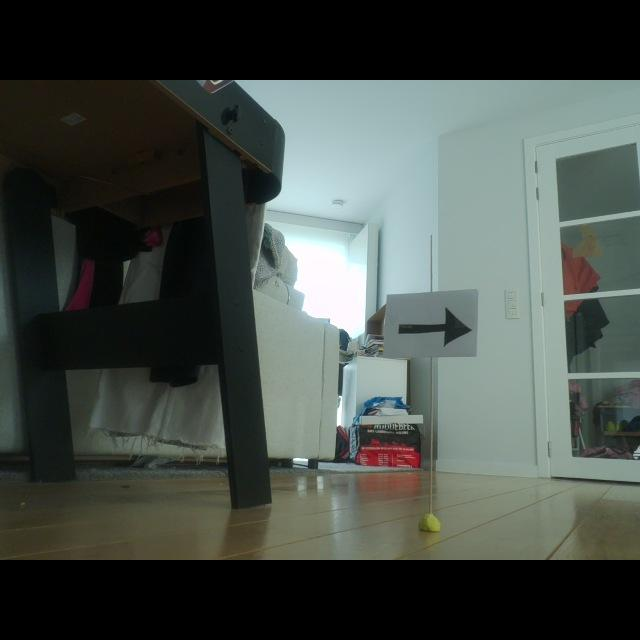jobbra_nyil: (399, 308, 471, 346)
